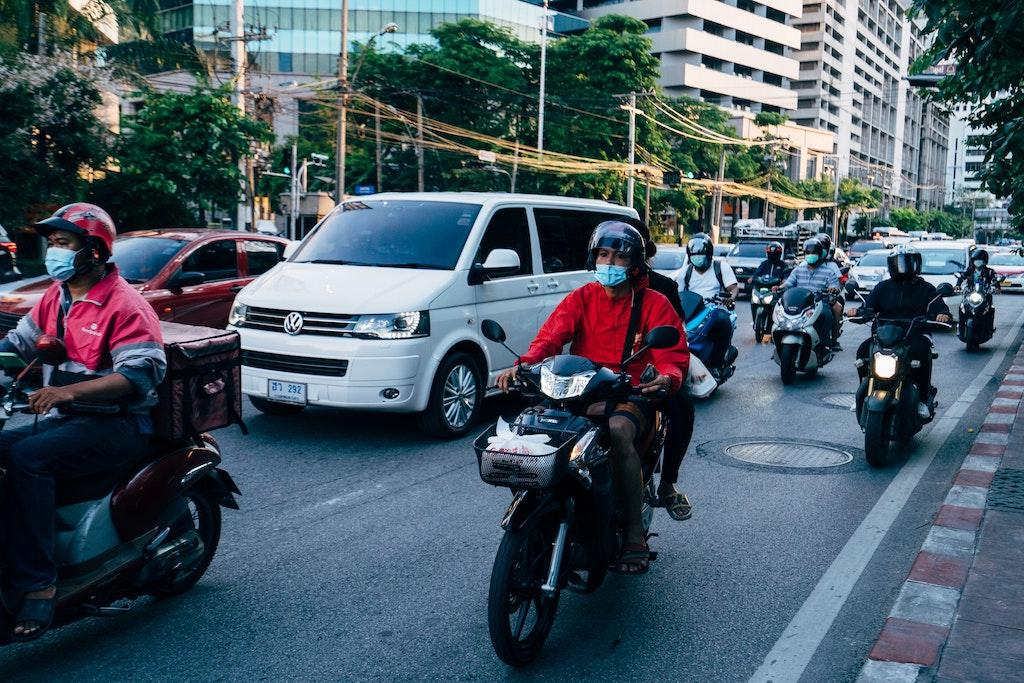helmet: (30, 201, 118, 287), (584, 219, 646, 291), (686, 231, 714, 272)
